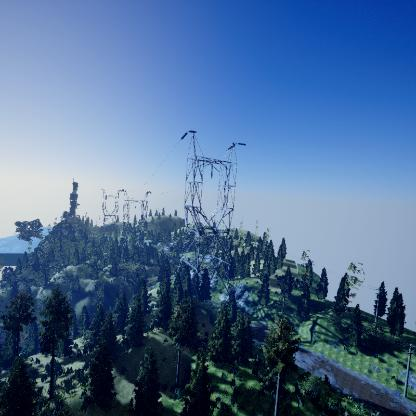tower: (179, 128, 248, 297), (119, 188, 152, 244), (97, 188, 122, 231)
